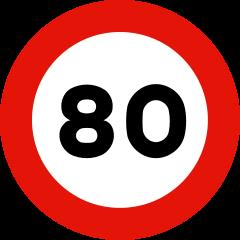Speed Limit -80-: (50, 75, 189, 177)
